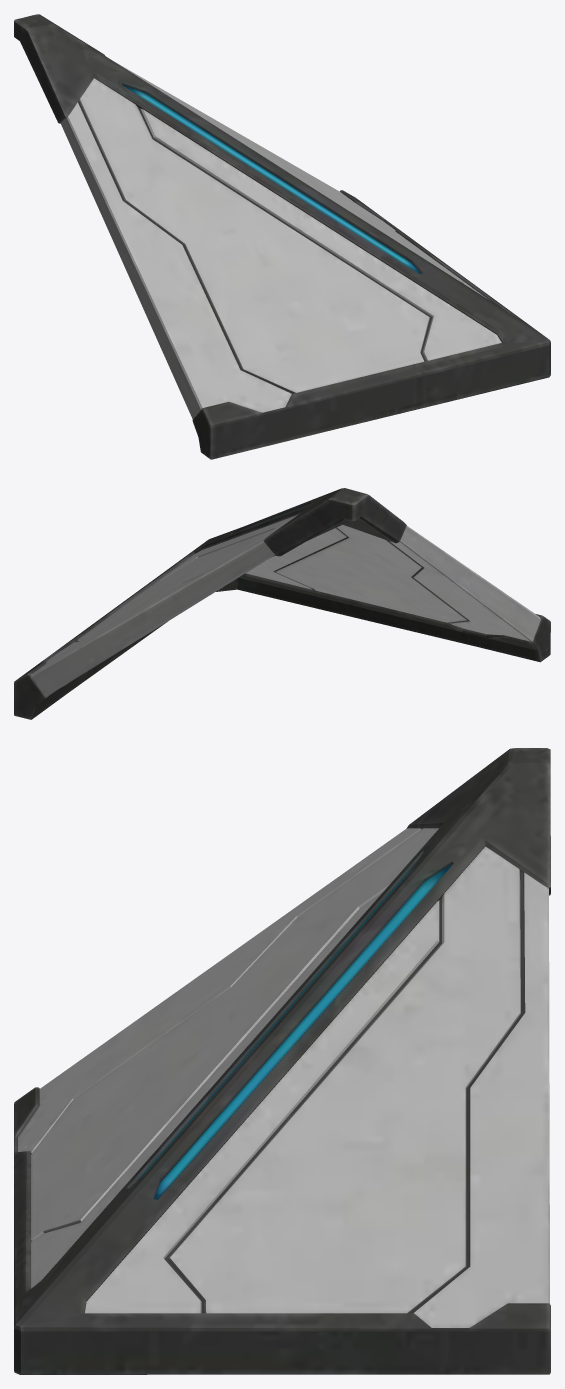
File: SM_TriangleStairsCorner_Ancient_2199dd.glb
The picture shows the model from 3 angles, top to bottom: view 1: azimuth 30°, elevation 25°; view 2: azimuth 150°, elevation 25°; view 3: azimuth 270°, elevation 25°; orthographic projection. The views are drawn at different scales.
Size of the model in its own units: 4.01 by 3.31 by 4.01.
1 material, 1 textured.
